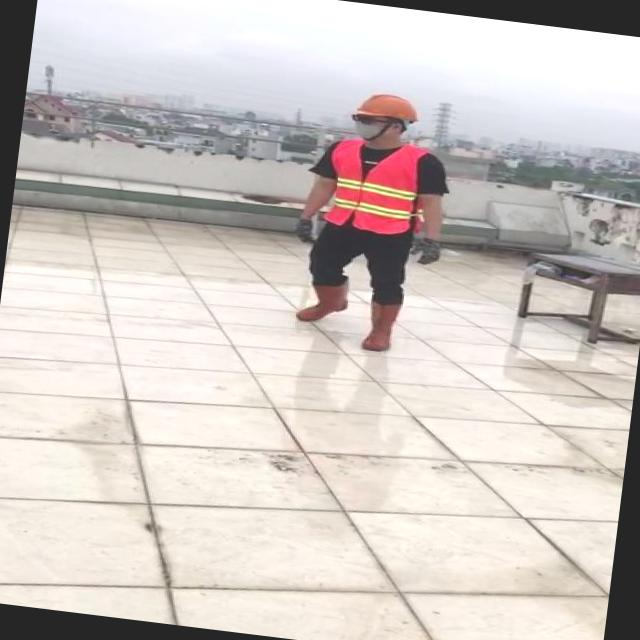boots: (295, 275, 350, 326), (358, 298, 402, 354)
gloves: (408, 236, 442, 264), (290, 210, 317, 244)
helmet: (351, 89, 422, 122)
vest: (322, 136, 428, 238)
